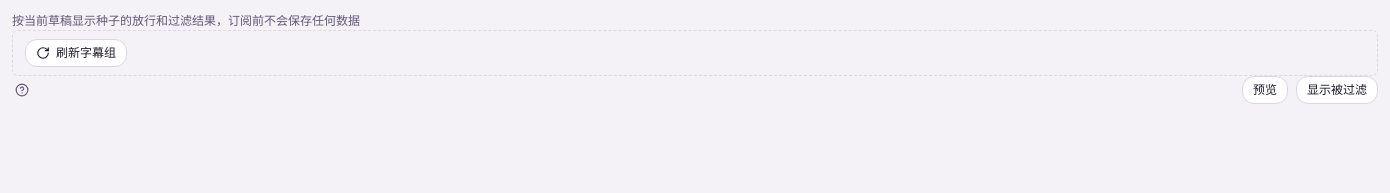
Test: 订阅前 RSS 工作区：发现的观察 › 发现的组标明按默认策略，观察不再保留时给出重新刷新的提示
Click the button "预览" at point(1265, 90), box [1242,76,1288,104]
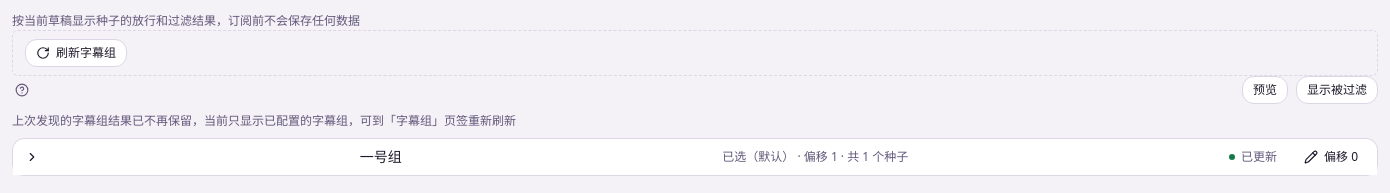
Result: the text "一号组" is shown at [360,147,402,167]
Result: the text "已选（默认） · 偏移 1 · 共 1 个种子" is shown at [722,148,908,166]
Result: the text "上次发现的字幕组结果已不再保留，当前只显示已配置的字幕组，可到「字幕组」页签重新刷新" is shown at [12,112,516,129]
